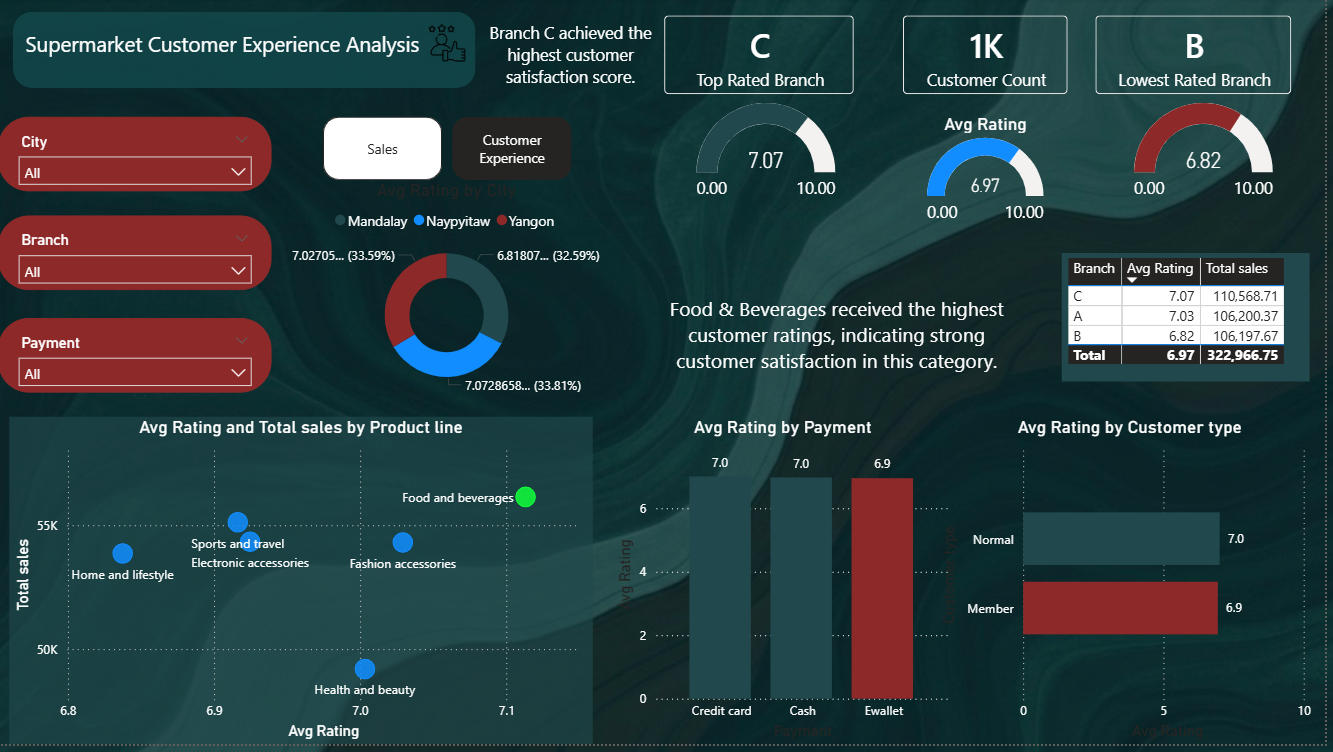

This screenshot's page, from the dashboard's own definition file:
{"tool":"powerbi","page":{"name":"Customer Experience","canvas":[1280,720],"ordinal":1},"visuals":[{"type":"gauge","fields":{"Y":["supermarket_sales.Avg Rating"]},"box":[863.8,111,178.6,117],"z":0},{"type":"cardVisual","fields":{"Data":["supermarket_sales.Customer Count"]},"box":[856.6,0,193,111],"z":1000},{"type":"barChart","fields":{"Category":["supermarket_sales.Customer type"],"Y":["supermarket_sales.Avg Rating"]},"box":[904.8,404.2,375.2,316.1],"z":2000},{"type":"scatterChart","fields":{"Category":["supermarket_sales.Product line"],"X":["supermarket_sales.Avg Rating"],"Y":["supermarket_sales.Total sales"]},"box":[10.9,404.2,563.4,316.1],"z":3000},{"type":"tableEx","fields":{"Values":["supermarket_sales.Branch","supermarket_sales.Avg Rating","supermarket_sales.Total sales"]},"box":[1026.7,246.1,238.9,124.3],"z":4000},{"type":"columnChart","fields":{"Category":["supermarket_sales.Payment"],"Y":["supermarket_sales.Avg Rating"]},"box":[574.3,404.2,330.6,316.1],"z":5000},{"type":"pieChart","fields":{"Y":["supermarket_sales.Avg Rating"],"Series":["supermarket_sales.City"]},"box":[273.9,174.9,318.5,213.5],"z":6000},{"type":"cardVisual","fields":{"Data":["supermarket_sales.Lowest Rated Branch"]},"box":[1042.4,0,223.2,111],"z":7000},{"type":"gauge","fields":{"Y":["supermarket_sales.Lowest Branch Rating"]},"box":[1061.7,96.5,203.9,108.6],"z":8000},{"type":"gauge","fields":{"Y":["supermarket_sales.Top Branch Rating"]},"box":[639.4,96.5,203.9,108.6],"z":9000},{"type":"cardVisual","fields":{"Data":["supermarket_sales.Top Rated Branch"]},"box":[626.1,0,217.2,111],"z":10000},{"type":"slicer","fields":{"Values":["supermarket_sales.Branch"]},"box":[0,209.9,264.2,72.4],"z":10002},{"type":"slicer","fields":{"Values":["supermarket_sales.City"]},"box":[0,114.6,264.2,72.4],"z":10003},{"type":"slicer","fields":{"Values":["supermarket_sales.Payment"]},"box":[0,308.8,264.2,72.4],"z":10004},{"type":"shape","box":[14.5,13.3,446.4,73.6],"z":10005},{"type":"actionButton","box":[0,0,433.1,86.9],"z":10006},{"type":"actionButton","box":[316.1,74.8,290.8,120.6],"z":10007},{"type":"actionButton","box":[626.1,246.1,366.8,113.4],"z":10008}]}

Visuals, with their boxes in screenshot pixels (x1, y1, x2, y2), scaled from the page's 1280x720 canvas onto the 1333x752 screenshot:
gauge - supermarket_sales.Avg Rating: l=900, t=116, r=1086, b=238
cardVisual - supermarket_sales.Customer Count: l=892, t=0, r=1093, b=116
barChart - supermarket_sales.Customer type x supermarket_sales.Avg Rating: l=942, t=422, r=1332, b=751
scatterChart - supermarket_sales.Product line x supermarket_sales.Avg Rating: l=11, t=422, r=598, b=751
tableEx - supermarket_sales.Branch x supermarket_sales.Avg Rating: l=1069, t=257, r=1318, b=387
columnChart - supermarket_sales.Payment x supermarket_sales.Avg Rating: l=598, t=422, r=942, b=751
pieChart - supermarket_sales.Avg Rating x supermarket_sales.City: l=285, t=183, r=617, b=406
cardVisual - supermarket_sales.Lowest Rated Branch: l=1086, t=0, r=1318, b=116
gauge - supermarket_sales.Lowest Branch Rating: l=1106, t=101, r=1318, b=214
gauge - supermarket_sales.Top Branch Rating: l=666, t=101, r=878, b=214
cardVisual - supermarket_sales.Top Rated Branch: l=652, t=0, r=878, b=116
slicer - supermarket_sales.Branch: l=0, t=219, r=275, b=295
slicer - supermarket_sales.City: l=0, t=120, r=275, b=195
slicer - supermarket_sales.Payment: l=0, t=323, r=275, b=398
shape: l=15, t=14, r=480, b=91
actionButton: l=0, t=0, r=451, b=91
actionButton: l=329, t=78, r=632, b=204
actionButton: l=652, t=257, r=1034, b=375
